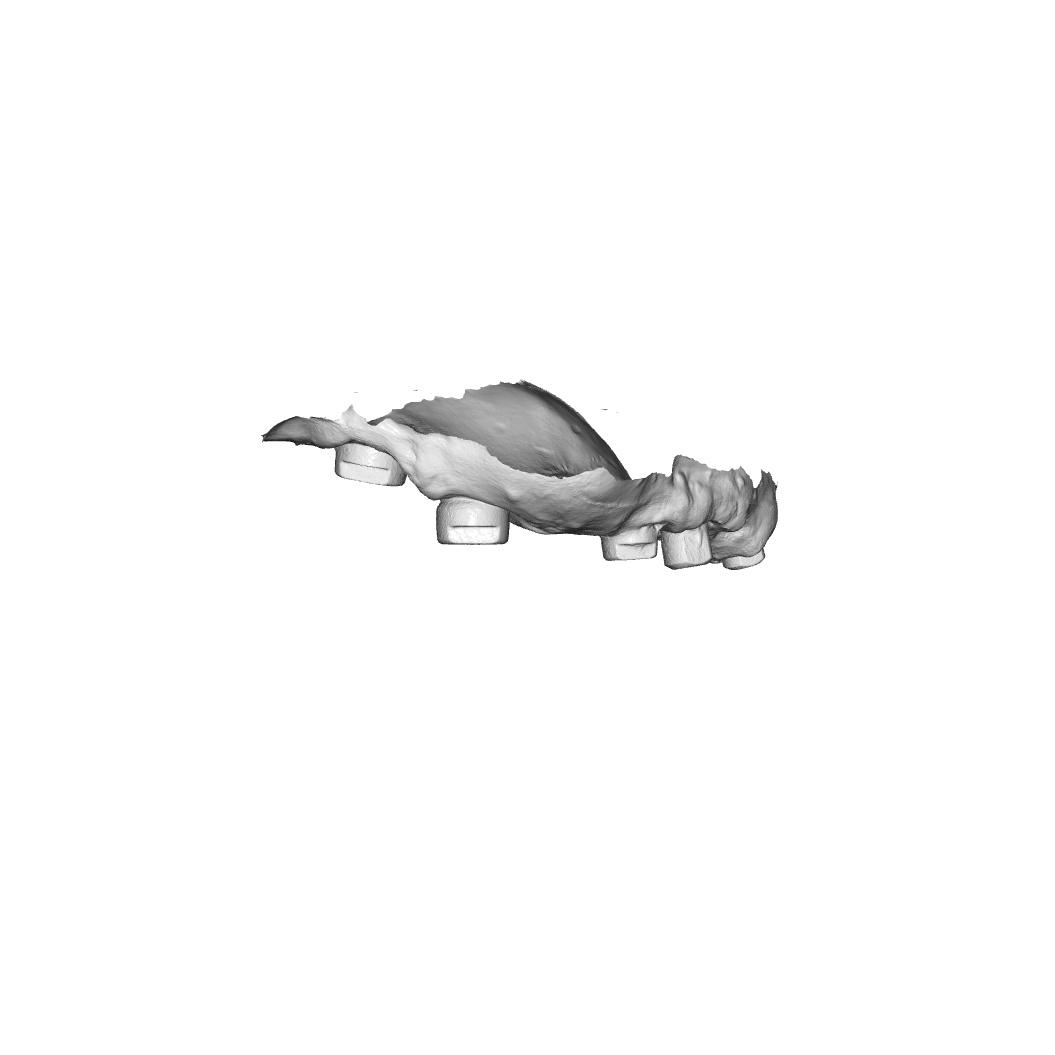implant: (428, 493, 512, 554), (323, 433, 410, 491), (588, 514, 665, 573), (664, 523, 722, 582), (722, 537, 783, 579)
